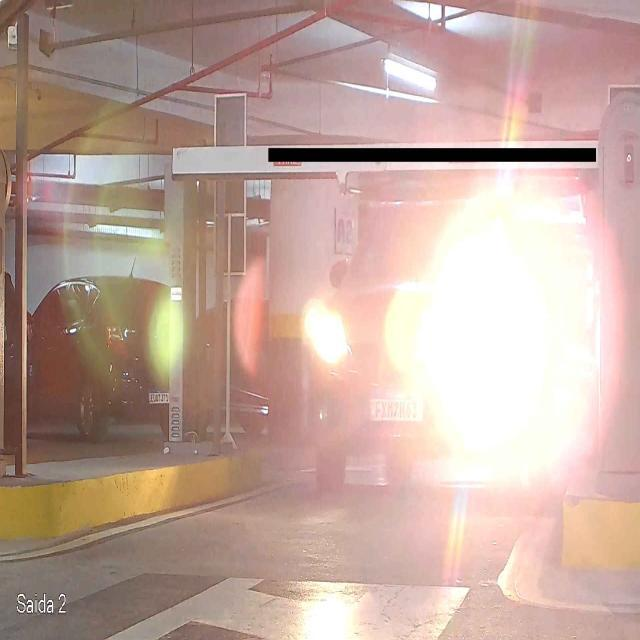mercosul_plate: (367, 392, 424, 422)
